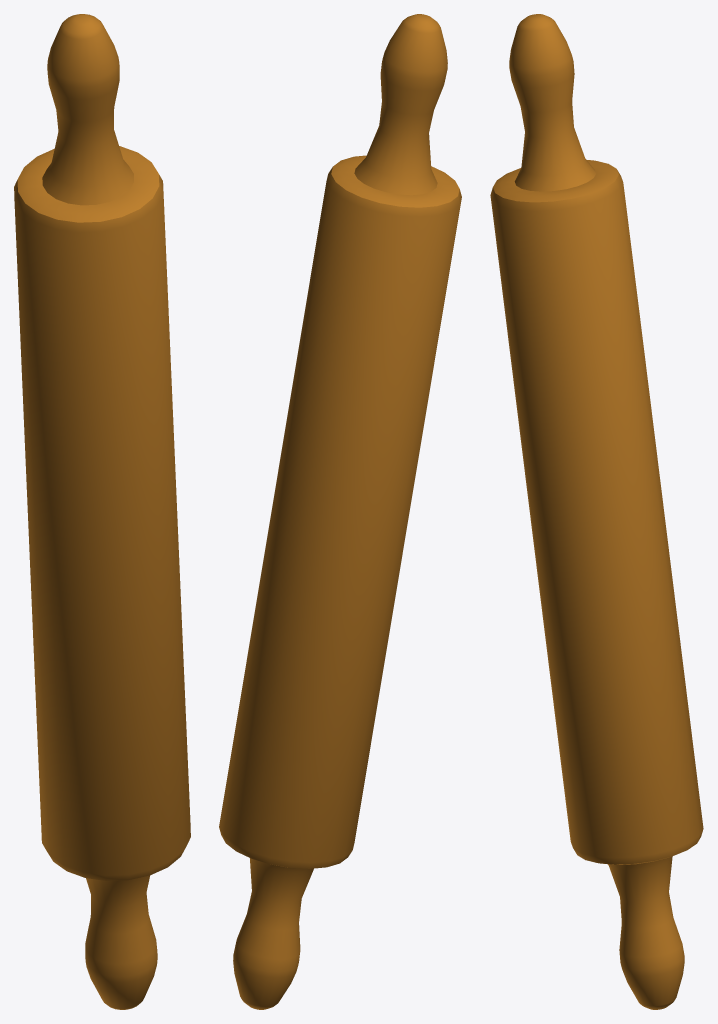
3 views of the same model, side by side, from view 1: azimuth 30°, elevation 25°; view 2: azimuth 150°, elevation 25°; view 3: azimuth 270°, elevation 25° (orthographic). The views are drawn at different scales.
Size of the model in its own units: 0.199 by 1 by 0.2043.
